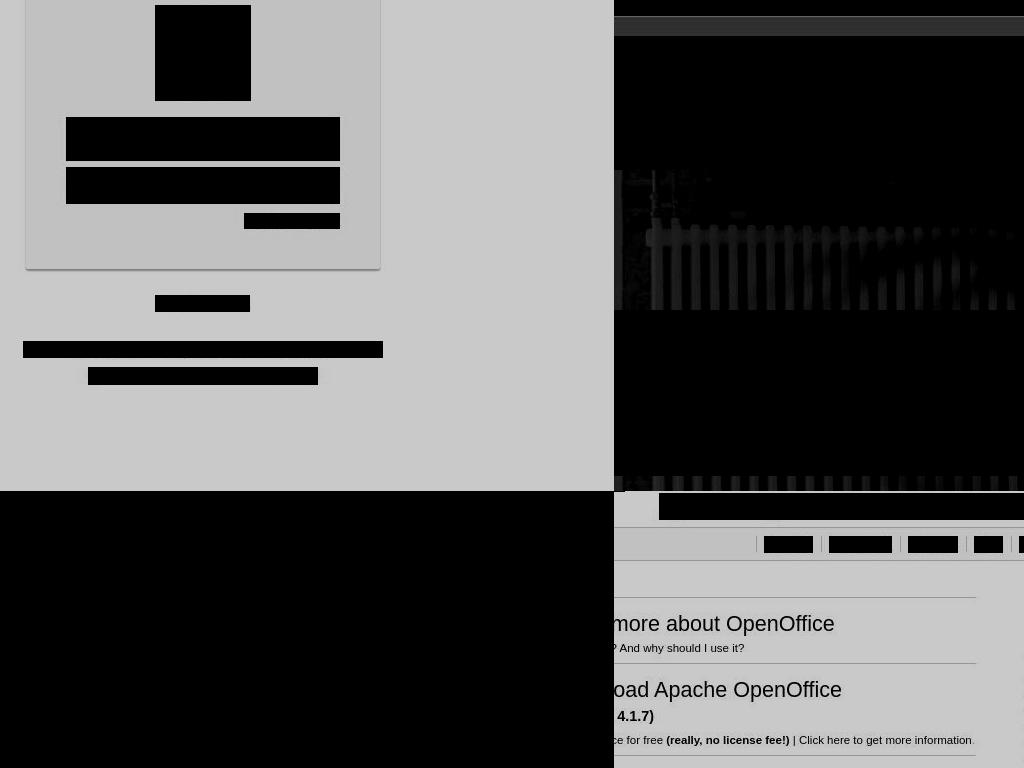button: (614, 679, 976, 728), (219, 540, 601, 586), (614, 613, 976, 658), (822, 104, 907, 129), (626, 0, 730, 16), (244, 213, 340, 229), (730, 0, 818, 16), (818, 0, 889, 16), (829, 536, 892, 553), (565, 608, 601, 633), (908, 536, 958, 553), (764, 536, 813, 553), (974, 536, 1003, 553)
field: (66, 117, 340, 161), (66, 167, 340, 204), (219, 632, 400, 673), (420, 632, 601, 673)
heading: (614, 310, 1024, 476), (0, 579, 184, 706), (614, 613, 976, 636), (614, 679, 976, 702)
image: (0, 491, 614, 768), (510, 491, 614, 768), (516, 491, 614, 721), (155, 5, 251, 101), (88, 367, 318, 385), (289, 553, 305, 569)
link: (659, 493, 1024, 520), (614, 706, 976, 728), (614, 640, 976, 658), (798, 734, 972, 747), (666, 734, 791, 747), (155, 295, 250, 312)
text: (614, 79, 1024, 126), (0, 724, 184, 768), (219, 690, 601, 711), (23, 341, 383, 358), (312, 554, 531, 571), (430, 644, 581, 665), (440, 714, 553, 741), (250, 714, 338, 741), (229, 644, 329, 665), (440, 744, 506, 768), (250, 744, 308, 768), (565, 608, 601, 633), (614, 734, 667, 747), (396, 590, 425, 612), (789, 734, 799, 747), (907, 106, 911, 126), (971, 734, 975, 747)
